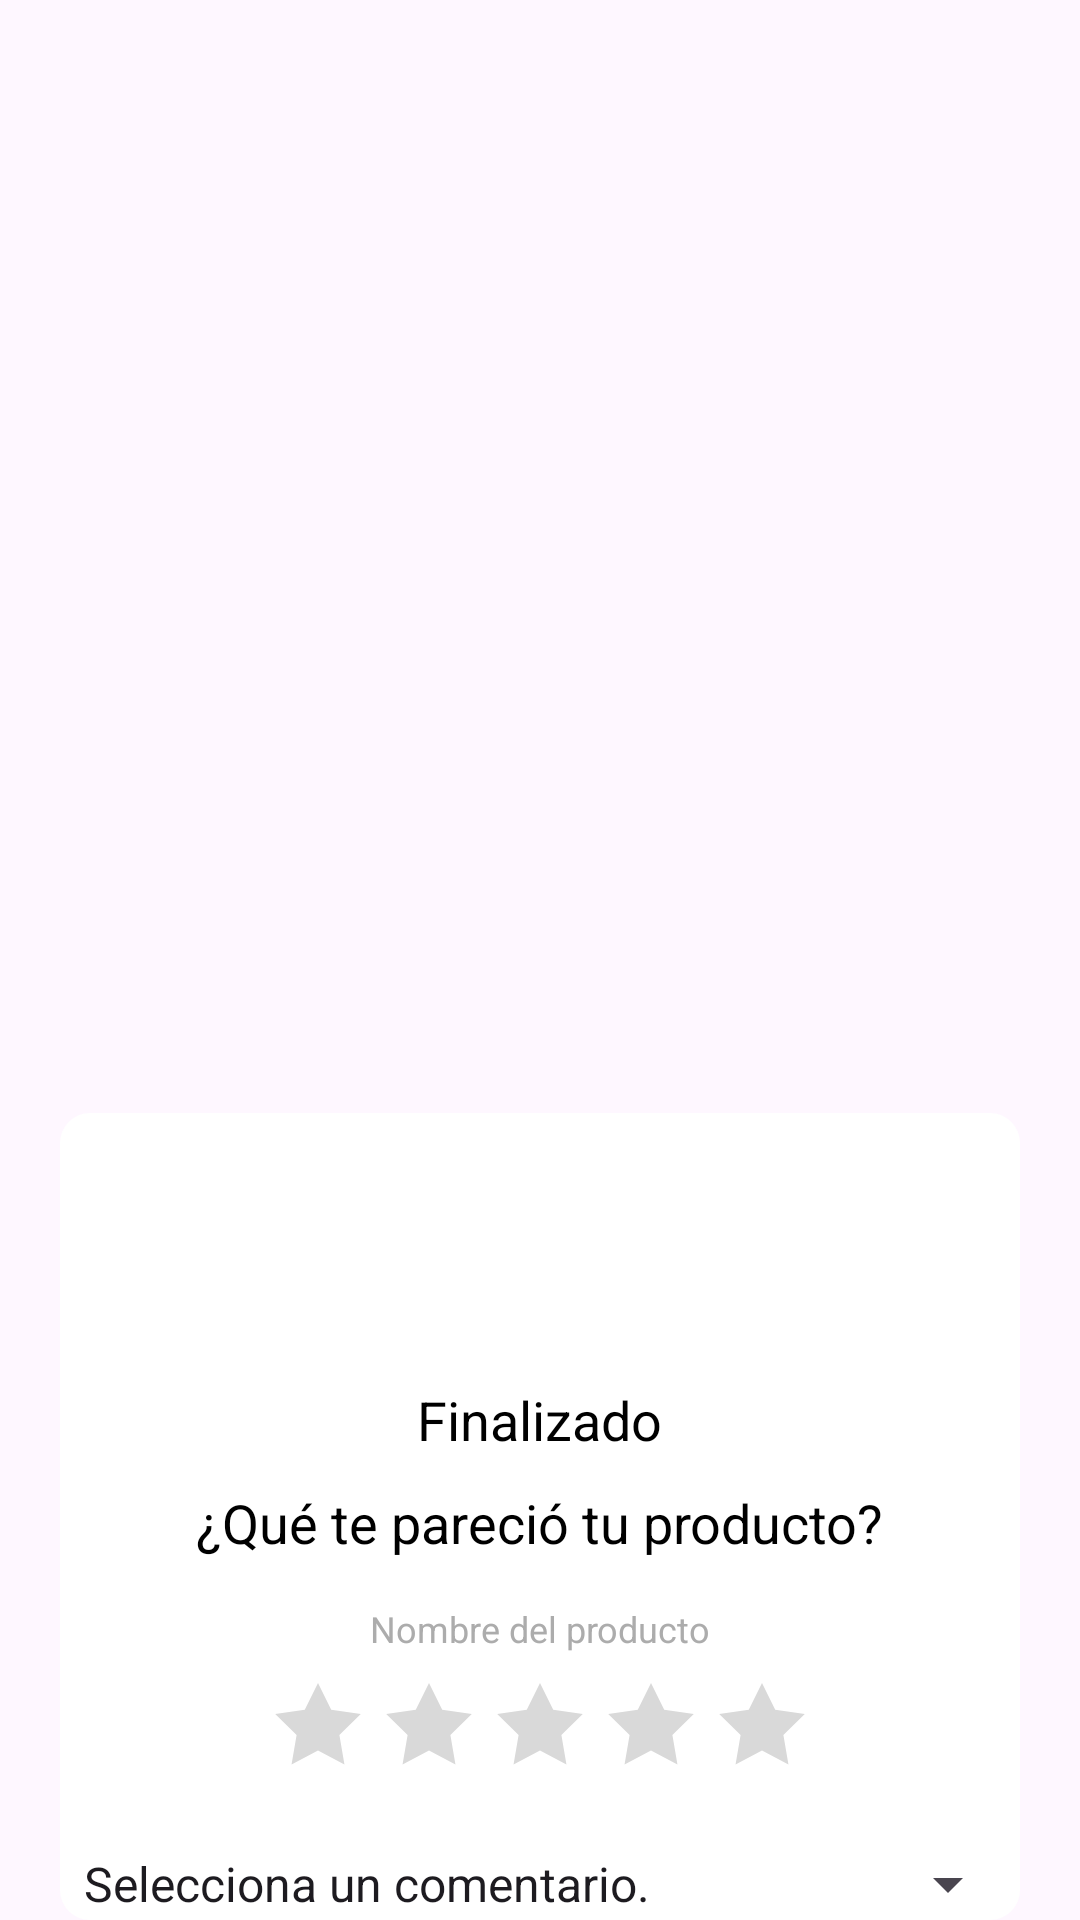

Where icons sit on this 1080 x 1920 app screen, as rect(x1, y1, x2, y2):
estrella dialog: rect(276, 1684, 360, 1764), rect(387, 1684, 471, 1764), rect(498, 1684, 582, 1764), rect(609, 1684, 693, 1764), rect(720, 1684, 804, 1764)
